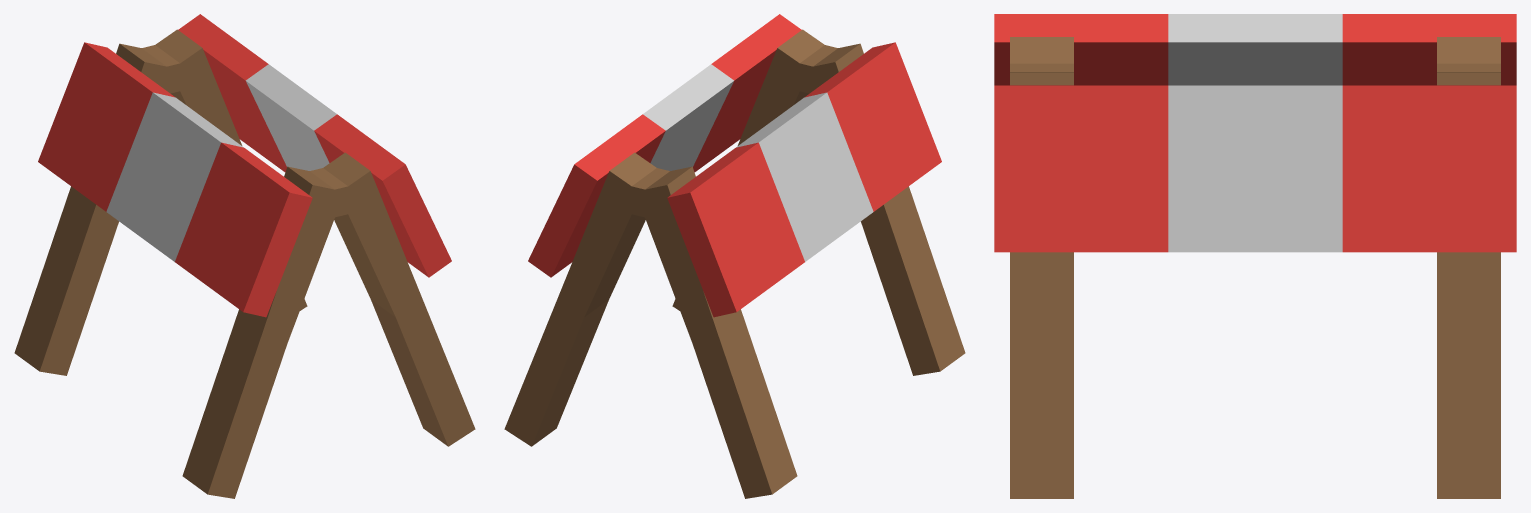
Rendered from Tuzak.fbx.
The picture shows the model from 3 angles, left to right: view 1: azimuth 30°, elevation 25°; view 2: azimuth 150°, elevation 25°; view 3: azimuth 270°, elevation 25°; orthographic projection. The views are drawn at different scales.
Parts seen in each view (by area): view 1: Cube; view 2: Cube; view 3: Cube.
Boxes of the visible parts, x1,y1,x2,y2 form: Cube: (14, 14, 475, 498); Cube: (504, 14, 965, 498); Cube: (994, 14, 1516, 498).
Bounding box in the file's own units: 184 × 196 × 244.
